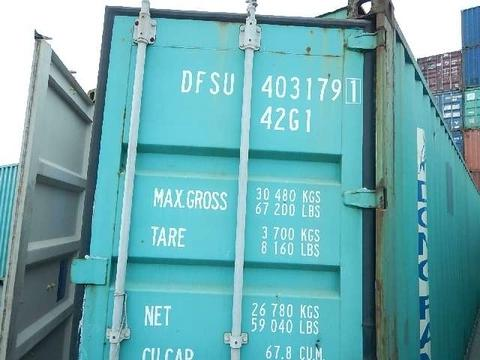ContainerNum: (179, 67, 364, 135)
